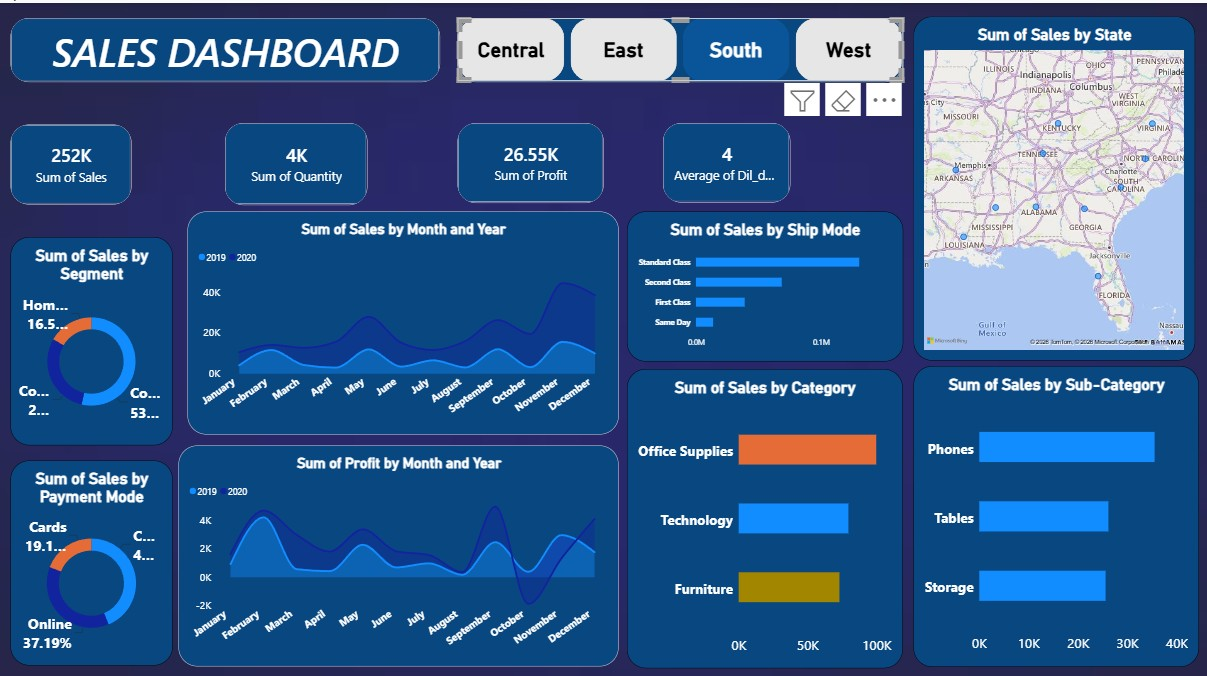

The page's visual inventory and layout, read from the dashboard file:
{"tool":"powerbi","page":{"name":"Page 1","canvas":[1920,1080],"ordinal":0},"visuals":[{"type":"map","title":"Sum of Sales by State","fields":{"Category":["SuperStore_Sales_Dataset (1).State"]},"box":[1452.5,21.8,447.9,547.4],"z":0},{"type":"barChart","fields":{"Category":["SuperStore_Sales_Dataset (1).Sub-Category"],"Y":["Sum(SuperStore_Sales_Dataset (1).Sales)"]},"box":[1452.5,578.5,454.1,479],"z":1000},{"type":"barChart","fields":{"Category":["SuperStore_Sales_Dataset (1).Category"],"Y":["Sum(SuperStore_Sales_Dataset (1).Sales)"]},"box":[998.4,581.6,438.5,475.9],"z":2000},{"type":"barChart","fields":{"Category":["SuperStore_Sales_Dataset (1).Ship Mode"],"Y":["Sum(SuperStore_Sales_Dataset (1).Sales)"]},"box":[997.3,331.6,439,238.6],"z":3000},{"type":"cardVisual","fields":{"Data":["Sum(SuperStore_Sales_Dataset (1).Sales)"]},"box":[17,192.8,192.8,127.5],"z":4000},{"type":"cardVisual","fields":{"Data":["Sum(SuperStore_Sales_Dataset (1).Quantity)"]},"box":[357.2,189.9,226.8,130.4],"z":5000},{"type":"cardVisual","fields":{"Data":["Sum(SuperStore_Sales_Dataset (1).Profit)"]},"box":[728.5,189.9,232.4,127.6],"z":6000},{"type":"donutChart","fields":{"Category":["SuperStore_Sales_Dataset (1).Segment"],"Y":["Sum(SuperStore_Sales_Dataset (1).Sales)"]},"box":[17,371.3,258,331.7],"z":7000},{"type":"stackedAreaChart","title":"Sum of Sales by Month and Year","fields":{"Category":["SuperStore_Sales_Dataset (1).Order Date.Variation.Date Hierarchy.Month"],"Series":["SuperStore_Sales_Dataset (1).Order Date.Variation.Date Hierarchy.Year"],"Y":["Sum(SuperStore_Sales_Dataset (1).Sales)"]},"box":[297.6,331.7,686,354.3],"z":8000},{"type":"donutChart","fields":{"Category":["SuperStore_Sales_Dataset (1).Payment Mode"],"Y":["Sum(SuperStore_Sales_Dataset (1).Sales)"]},"box":[17,728.5,258,326],"z":9000},{"type":"stackedAreaChart","fields":{"Category":["SuperStore_Sales_Dataset (1).Order Date.Variation.Date Hierarchy.Month"],"Series":["SuperStore_Sales_Dataset (1).Order Date.Variation.Date Hierarchy.Year"],"Y":["Sum(SuperStore_Sales_Dataset (1).Profit)"]},"box":[283.5,703,700.2,351.5],"z":10000},{"type":"cardVisual","fields":{"Data":["SuperStore_Sales_Dataset (1).Display_text"]},"box":[17,22.7,683.2,102],"z":11000},{"type":"advancedSlicerVisual","fields":{"Values":["SuperStore_Sales_Dataset (1).Region"]},"box":[728.5,22.7,708.7,102],"z":12000},{"type":"cardVisual","fields":{"Data":["Avg(SuperStore_Sales_Dataset_.Dil_date)"]},"box":[1054.6,190.9,202.8,126.5],"z":12001}]}

Visuals, with their boxes in screenshot pixels (x1, y1, x2, y2), scaled from the page's 1920x1080 canvas onto the 1207x676 screenshot:
"Sum of Sales by State" map: left=913, top=14, right=1195, bottom=356
barChart - SuperStore_Sales_Dataset (1).Sub-Category x Sum(SuperStore_Sales_Dataset (1).Sales): left=913, top=362, right=1199, bottom=662
barChart - SuperStore_Sales_Dataset (1).Category x Sum(SuperStore_Sales_Dataset (1).Sales): left=628, top=364, right=903, bottom=662
barChart - SuperStore_Sales_Dataset (1).Ship Mode x Sum(SuperStore_Sales_Dataset (1).Sales): left=627, top=208, right=903, bottom=357
cardVisual - Sum(SuperStore_Sales_Dataset (1).Sales): left=11, top=121, right=132, bottom=200
cardVisual - Sum(SuperStore_Sales_Dataset (1).Quantity): left=225, top=119, right=367, bottom=200
cardVisual - Sum(SuperStore_Sales_Dataset (1).Profit): left=458, top=119, right=604, bottom=199
donutChart - SuperStore_Sales_Dataset (1).Segment x Sum(SuperStore_Sales_Dataset (1).Sales): left=11, top=232, right=173, bottom=440
"Sum of Sales by Month and Year" stackedAreaChart: left=187, top=208, right=618, bottom=429
donutChart - SuperStore_Sales_Dataset (1).Payment Mode x Sum(SuperStore_Sales_Dataset (1).Sales): left=11, top=456, right=173, bottom=660
stackedAreaChart - SuperStore_Sales_Dataset (1).Order Date.Variation.Date Hierarchy.Month x SuperStore_Sales_Dataset (1).Order Date.Variation.Date Hierarchy.Year: left=178, top=440, right=618, bottom=660
cardVisual - SuperStore_Sales_Dataset (1).Display_text: left=11, top=14, right=440, bottom=78
advancedSlicerVisual - SuperStore_Sales_Dataset (1).Region: left=458, top=14, right=903, bottom=78
cardVisual - Avg(SuperStore_Sales_Dataset_.Dil_date): left=663, top=119, right=790, bottom=199
